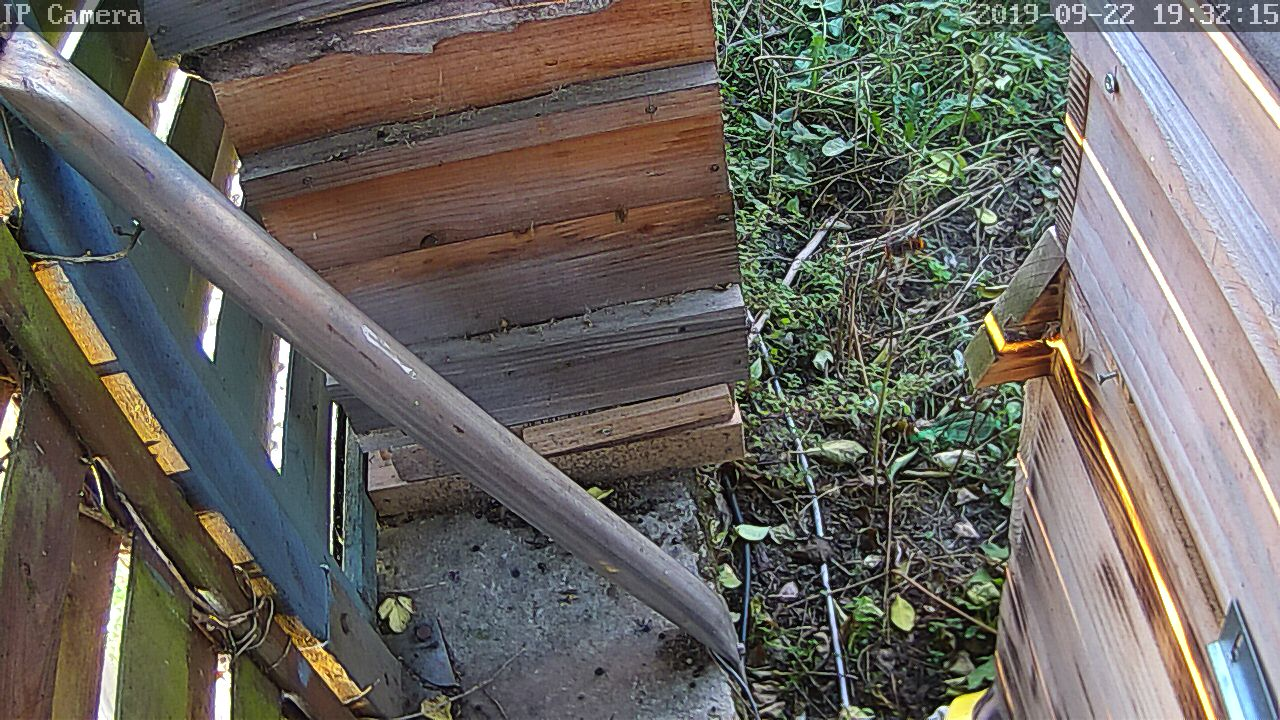hornet: (883, 229, 931, 261)
